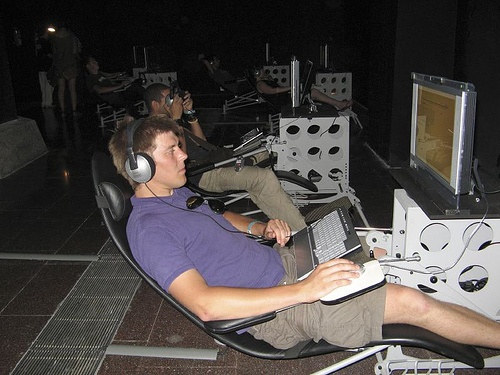head: (105, 116, 189, 191), (143, 83, 172, 118), (82, 55, 102, 78)
person: (114, 119, 495, 368), (144, 94, 303, 203), (43, 19, 82, 120), (84, 54, 139, 121), (143, 81, 203, 135)
